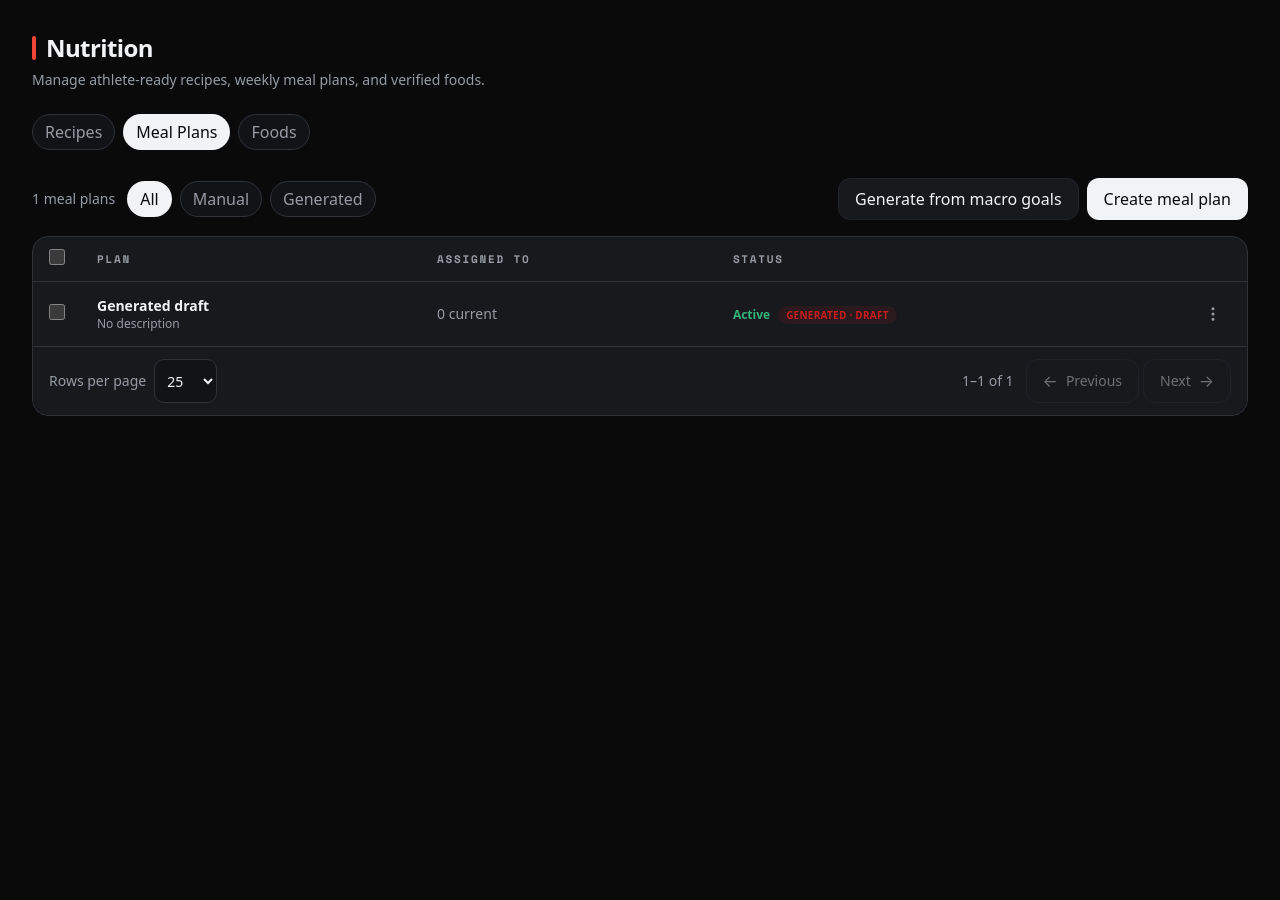
Scenario: Nutrition meal-plan deletion › does not report generated deletion success when the RPC returns no id
The image size is (1280, 900).
Expected: the text "Generated draft" is shown, x1=97 y1=296 x2=209 y2=315
Click the button named "Actions": click(1213, 314) x1=1195 y1=296 x2=1231 y2=332
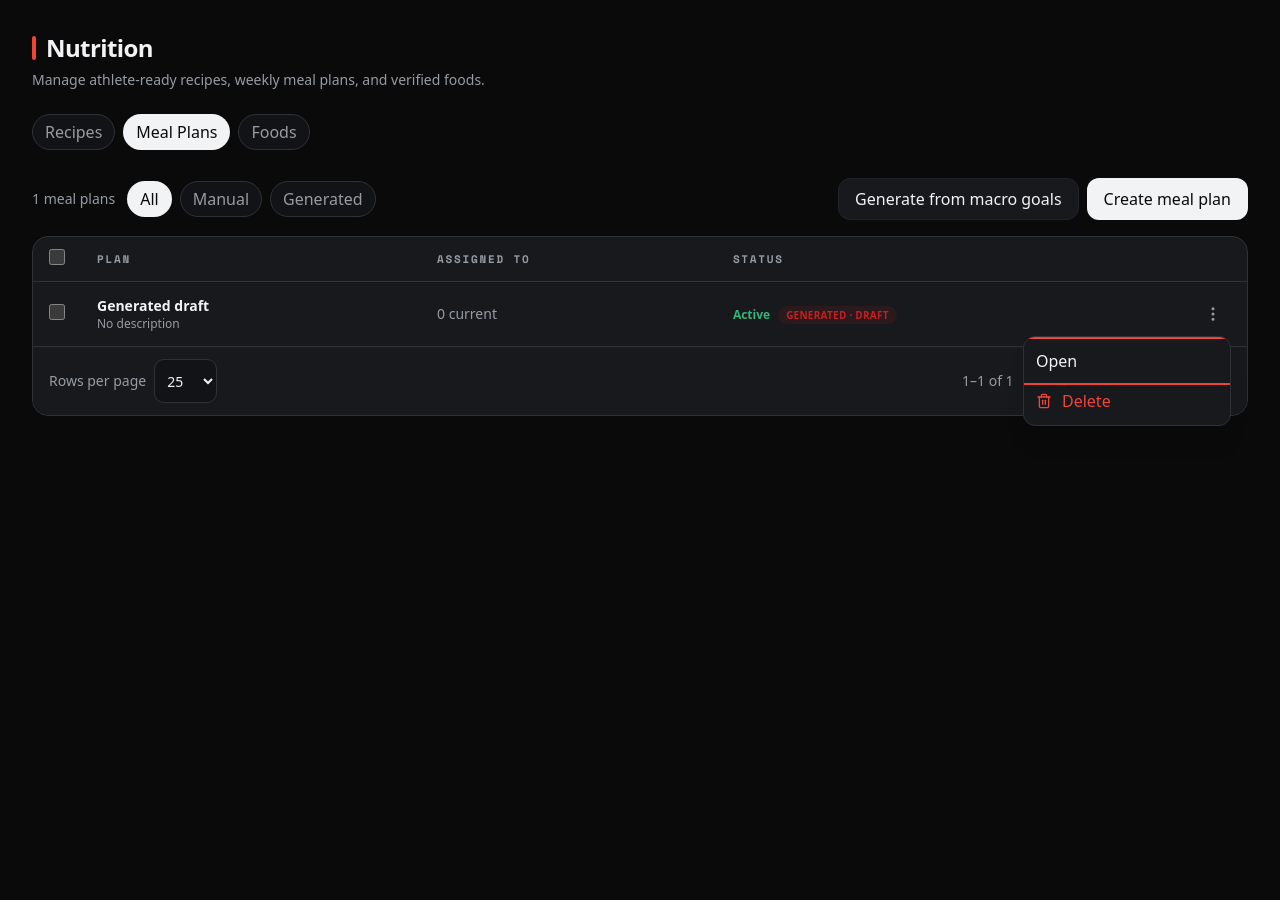
Click the menu item "Delete": click(1127, 401) x1=1024 y1=381 x2=1230 y2=421
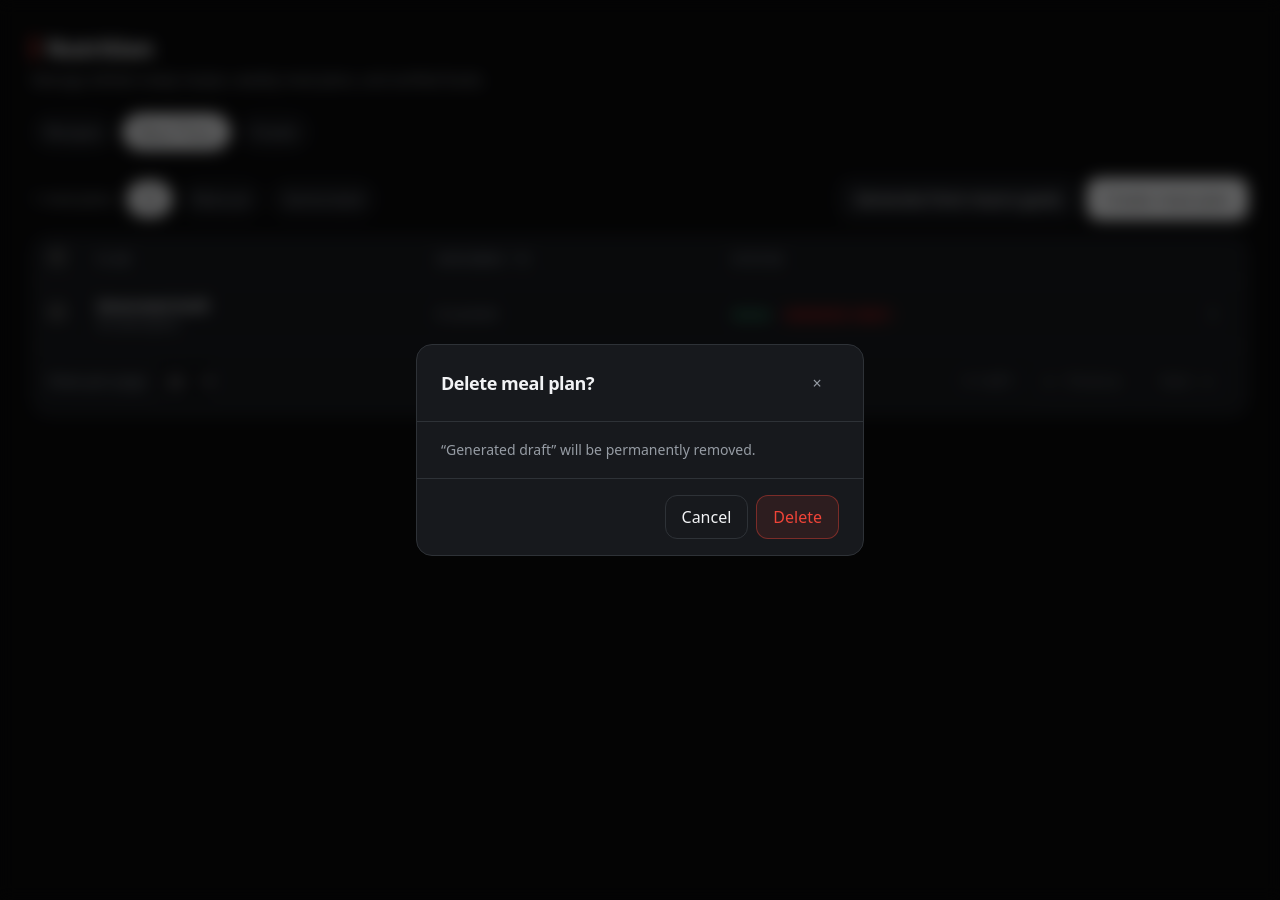
Click the button "Delete": click(798, 517) x1=756 y1=495 x2=839 y2=539
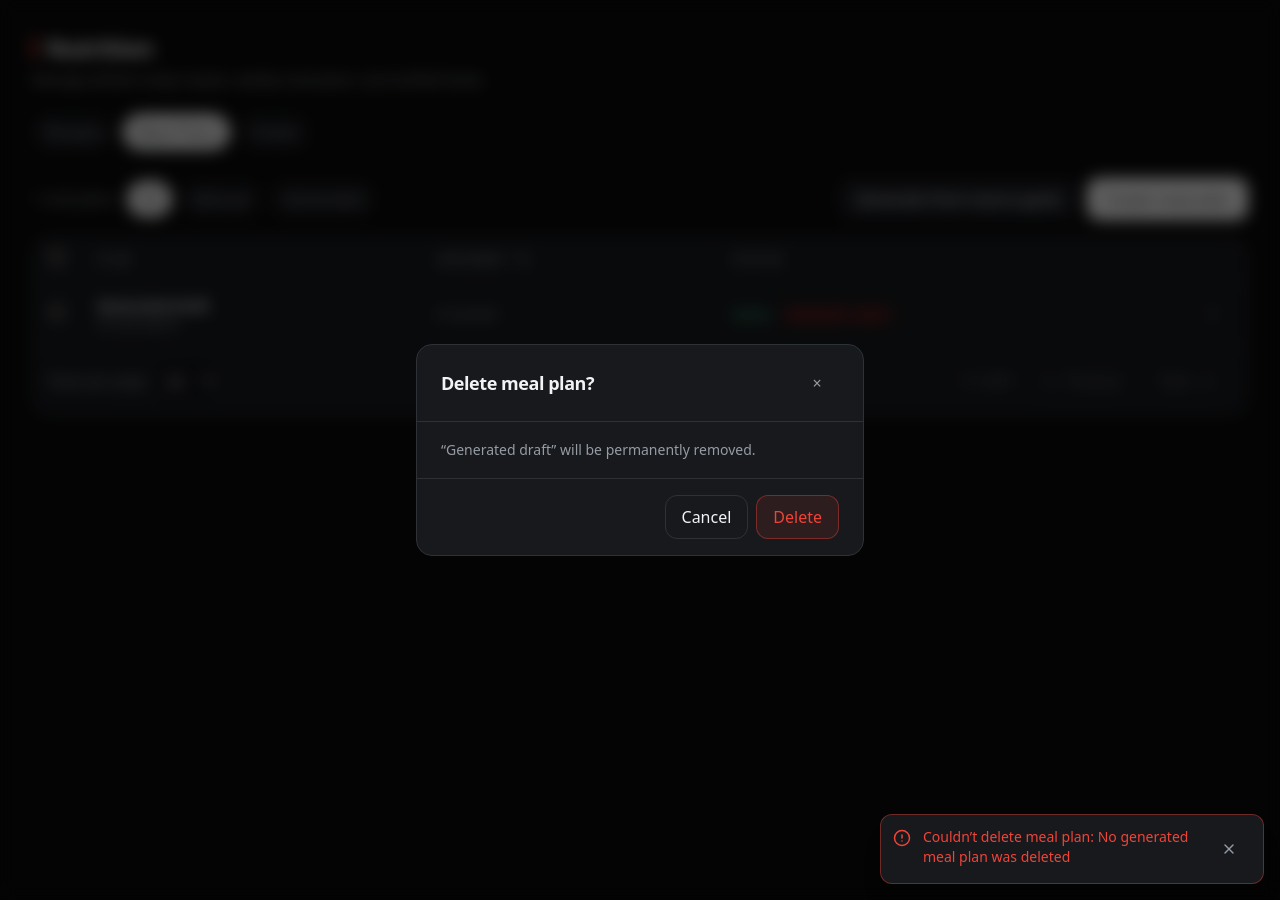
Now the text "Couldn’t delete meal plan: No generated meal plan was deleted" is shown, box x1=923 y1=827 x2=1195 y2=867
